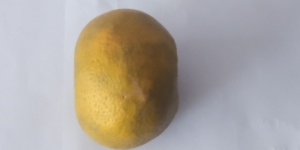BAD: (70, 7, 184, 150)
